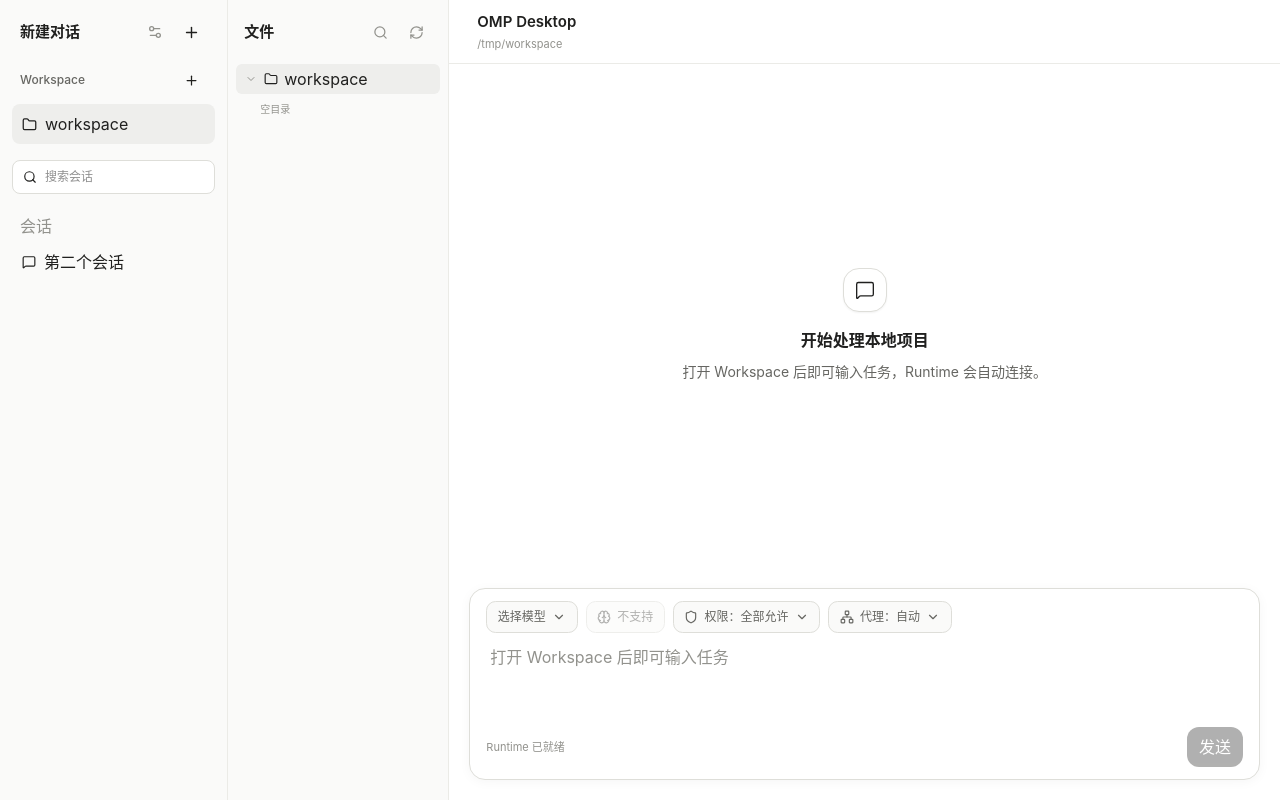
App shell › Session 切换成功后清除上一次失败提示
The width and height of the screenshot is (1280, 800).
Click the button "第二个会话". click: (114, 262)
box: top-left (12, 242), bottom-right (215, 282)
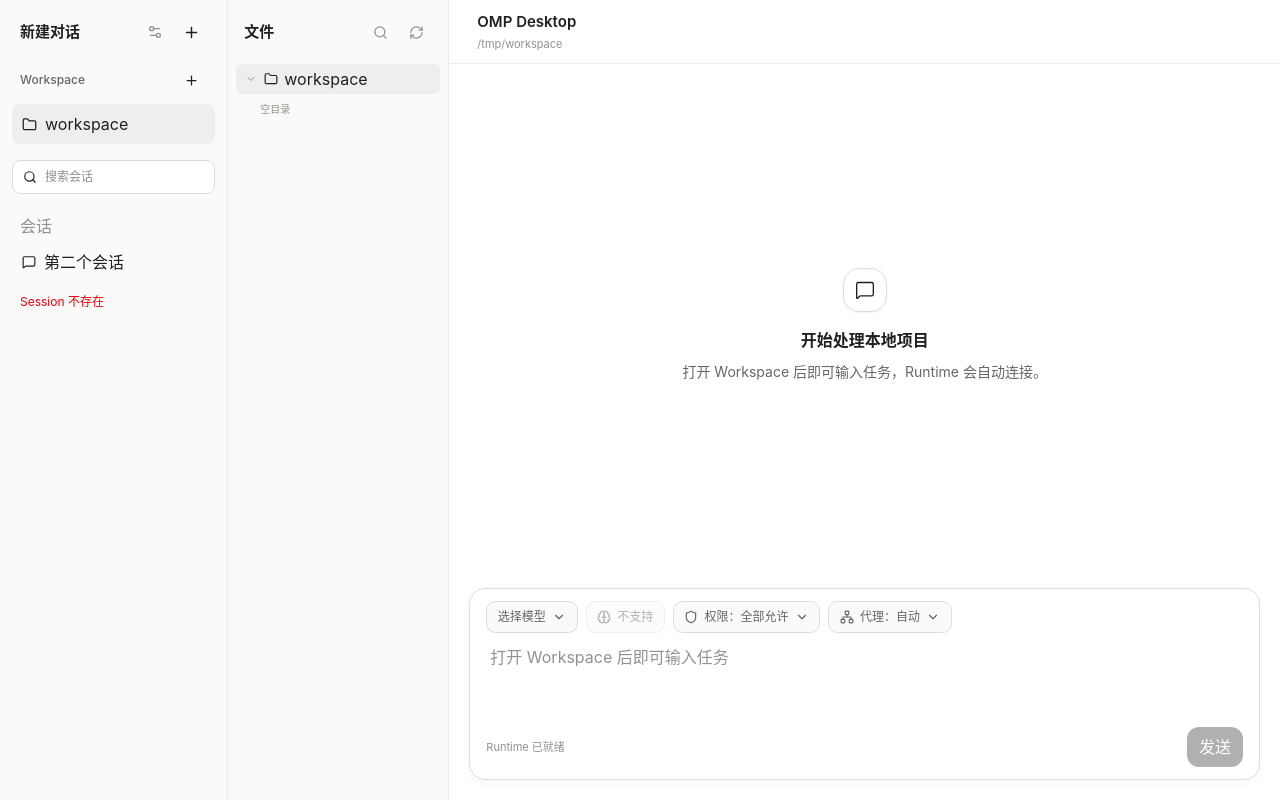
Now the text "Session 不存在" is shown, box top-left (20, 294), bottom-right (104, 309)
Click the button "第二个会话". click: (114, 262)
box: top-left (12, 242), bottom-right (215, 282)
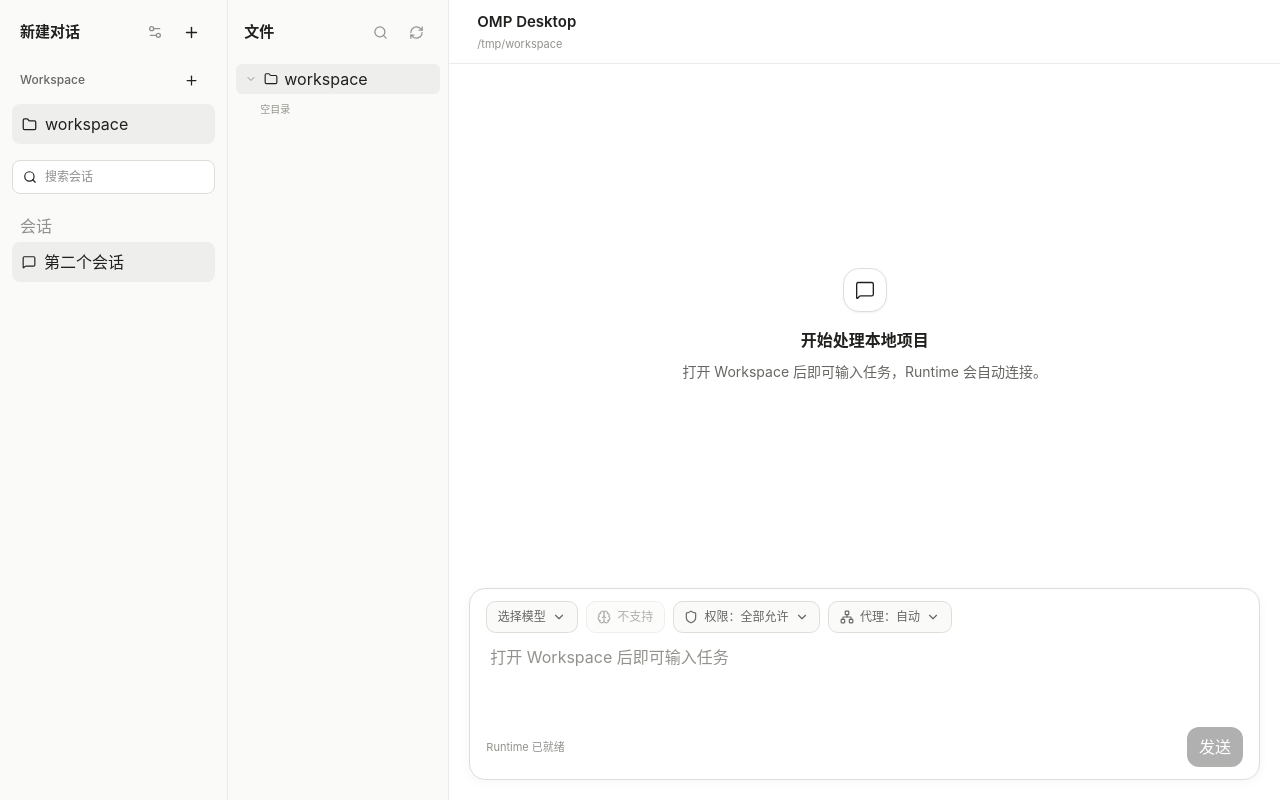
Now the text "Session 不存在" is gone
